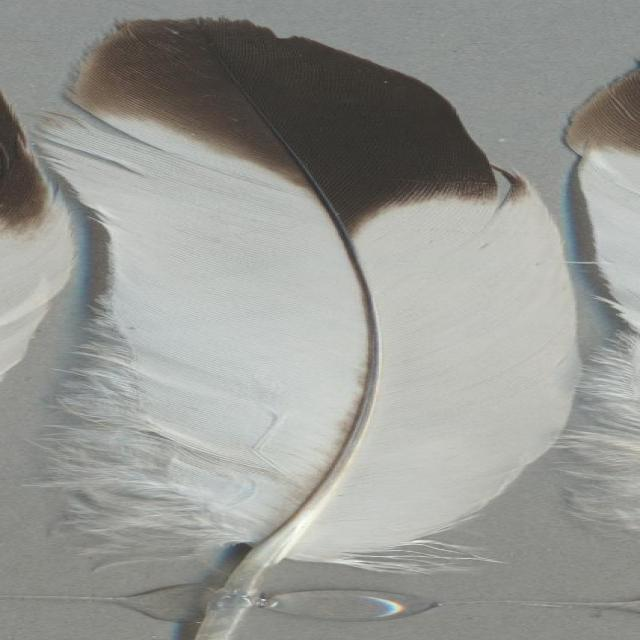feather: (50, 20, 594, 640)
